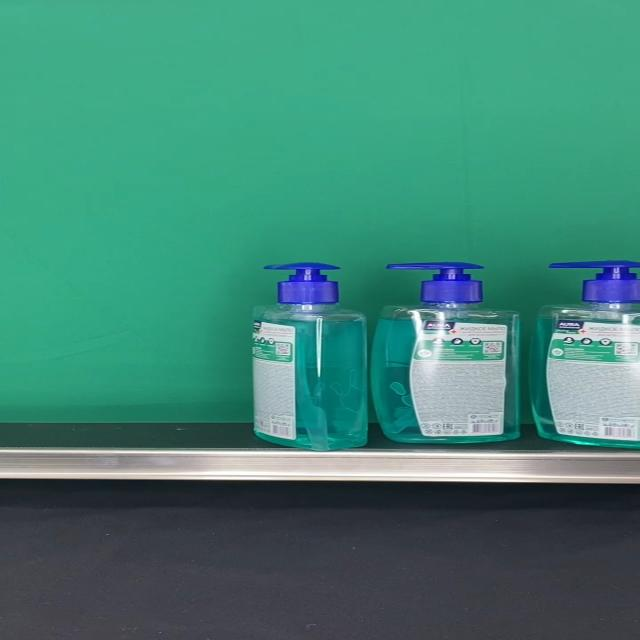Bottle: (368, 261, 520, 444), (251, 262, 368, 450)
Cap: (385, 262, 484, 303), (262, 262, 340, 304)
